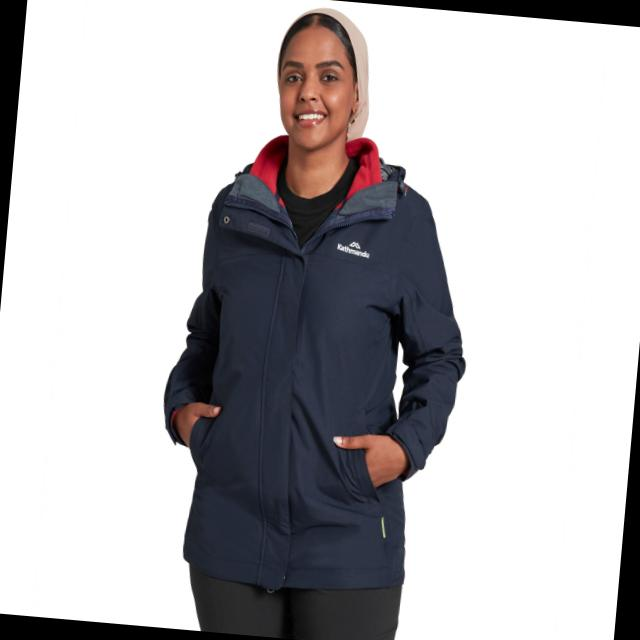Jacket: (136, 127, 483, 611)
